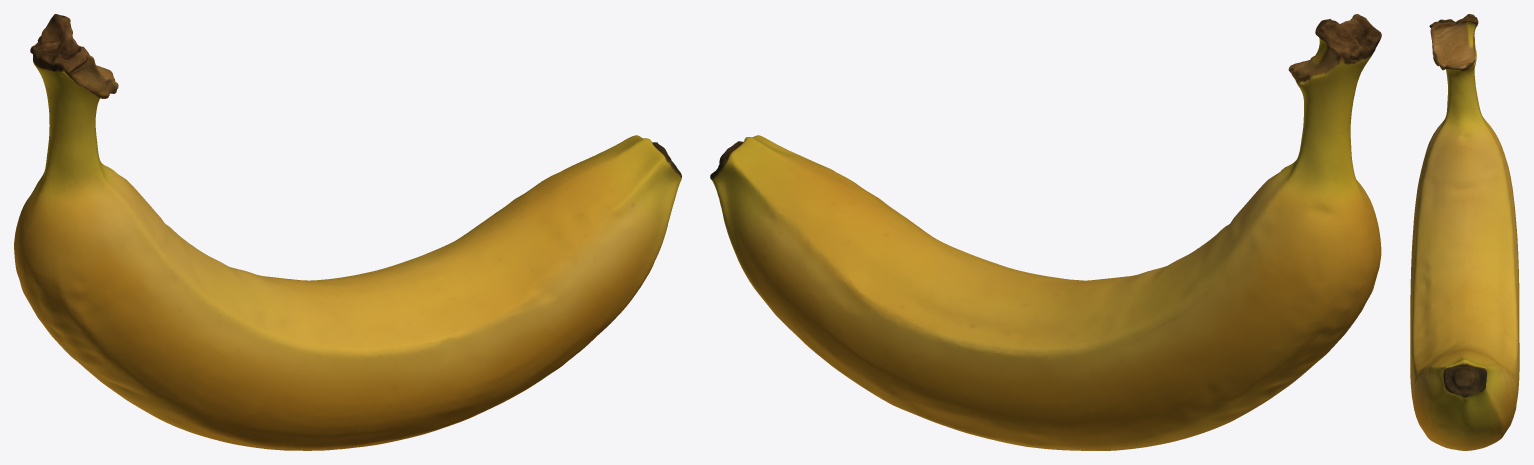
The model's file is banana-flux-4k.glb.
3 views of the same model, side by side, from view 1: azimuth 30°, elevation 25°; view 2: azimuth 150°, elevation 25°; view 3: azimuth 270°, elevation 25° (orthographic). The views are drawn at different scales.
Bounding box in the file's own units: 0.9997 × 0.726 × 0.2303.
Materials: 1 (1 with a texture image).
